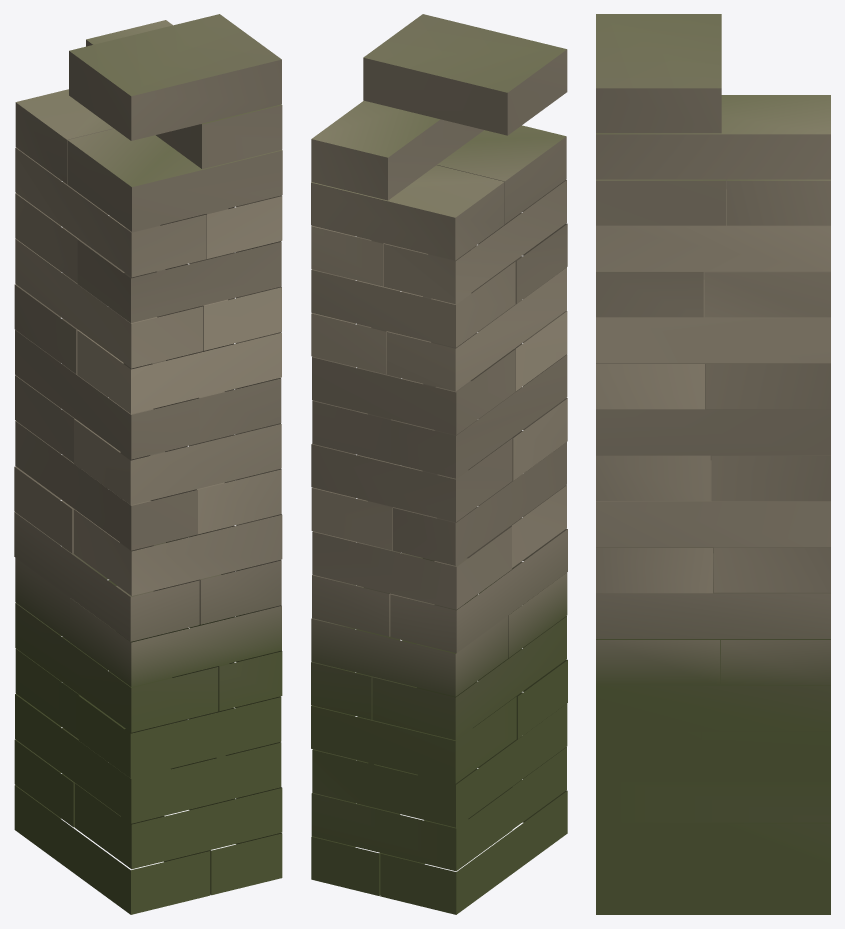
The model's file is viaduct_pier_stump_mid.glb.
3 renders of one model, left to right at view 1: azimuth 30°, elevation 25°; view 2: azimuth 150°, elevation 25°; view 3: azimuth 270°, elevation 25°, orthographic. The views are drawn at different scales.
Visible parts, largest first — view 1: viaduct_pier_stump_mid; view 2: viaduct_pier_stump_mid; view 3: viaduct_pier_stump_mid.
Part boxes in pixels (bbox=[...]): viaduct_pier_stump_mid: bbox=[14, 14, 282, 914]; viaduct_pier_stump_mid: bbox=[311, 14, 567, 914]; viaduct_pier_stump_mid: bbox=[596, 14, 830, 914].
Size of the model in its own units: 6.02 by 30.97 by 7.97.
